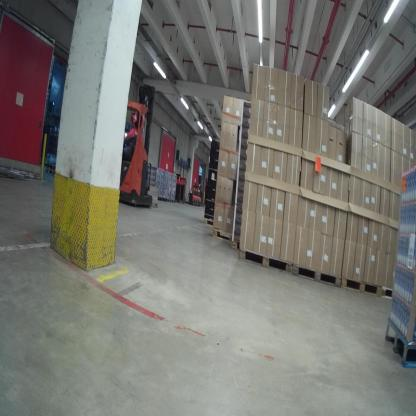forklift: (119, 70, 156, 213)
pallet: (236, 247, 291, 275), (292, 262, 339, 290), (340, 275, 380, 299), (211, 224, 235, 247), (379, 278, 400, 302), (229, 237, 244, 255), (204, 215, 217, 227), (46, 159, 56, 172), (44, 166, 57, 175)
pallet_truck: (171, 166, 182, 202), (188, 176, 200, 208), (180, 168, 187, 207), (198, 182, 204, 209)
